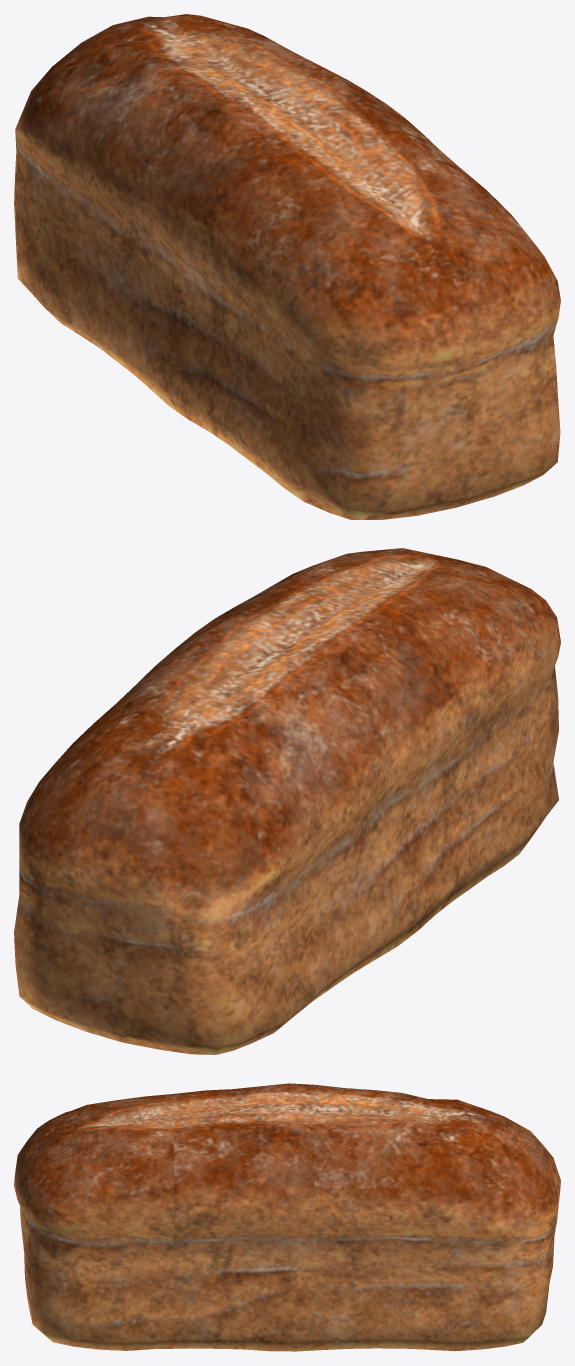
File: Bread_3_bread1_c_mesh.obj
The picture shows the model from 3 angles, top to bottom: view 1: azimuth 30°, elevation 25°; view 2: azimuth 150°, elevation 25°; view 3: azimuth 270°, elevation 25°; orthographic projection. The views are drawn at different scales.
Bounding box in the file's own units: 0.1215 × 0.1348 × 0.3083.
